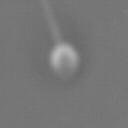normal: (35, 1, 63, 41)
